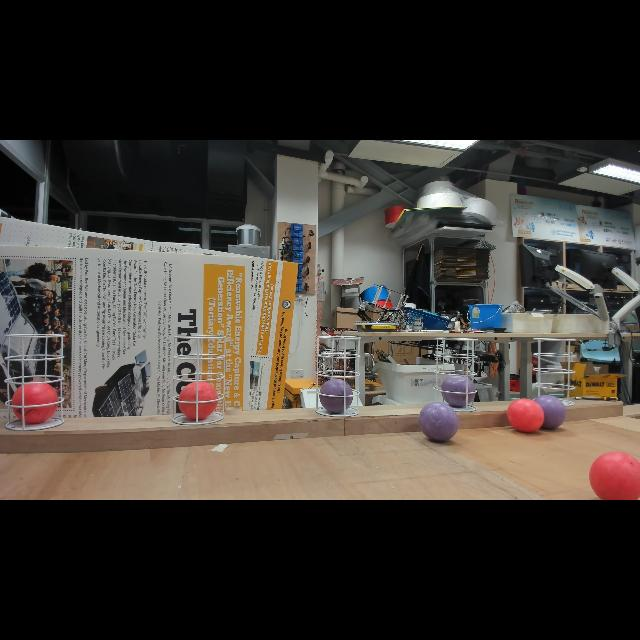P: (418, 402, 459, 442), (441, 374, 477, 408), (319, 378, 353, 414), (532, 394, 566, 430)
R: (588, 450, 640, 500), (11, 380, 59, 426), (178, 380, 218, 420), (505, 398, 545, 434)
S: (3, 333, 65, 432), (172, 334, 226, 426), (315, 334, 361, 418), (434, 337, 478, 413), (532, 337, 576, 407)
